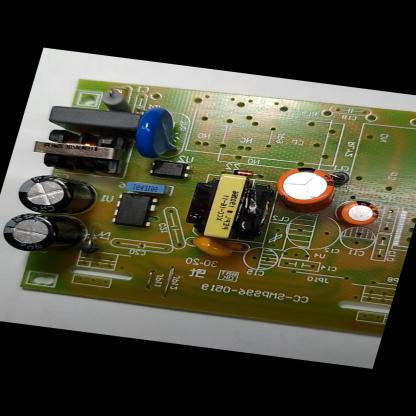Cap1: (271, 162, 341, 214)
Cap2: (336, 197, 382, 226)
Cap3: (11, 170, 99, 219)
Cap4: (0, 207, 95, 259)
MOSFET: (108, 190, 160, 230)
Mov: (128, 106, 192, 162)
Resistor: (95, 86, 138, 115)
Transformer: (180, 168, 276, 243), (26, 123, 134, 177)
